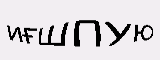И: (3, 24, 23, 44)
П: (73, 18, 101, 46)
У: (101, 18, 130, 47)
Ш: (38, 23, 72, 46)
Ю: (131, 20, 156, 45)
Ғ: (21, 23, 36, 45)
